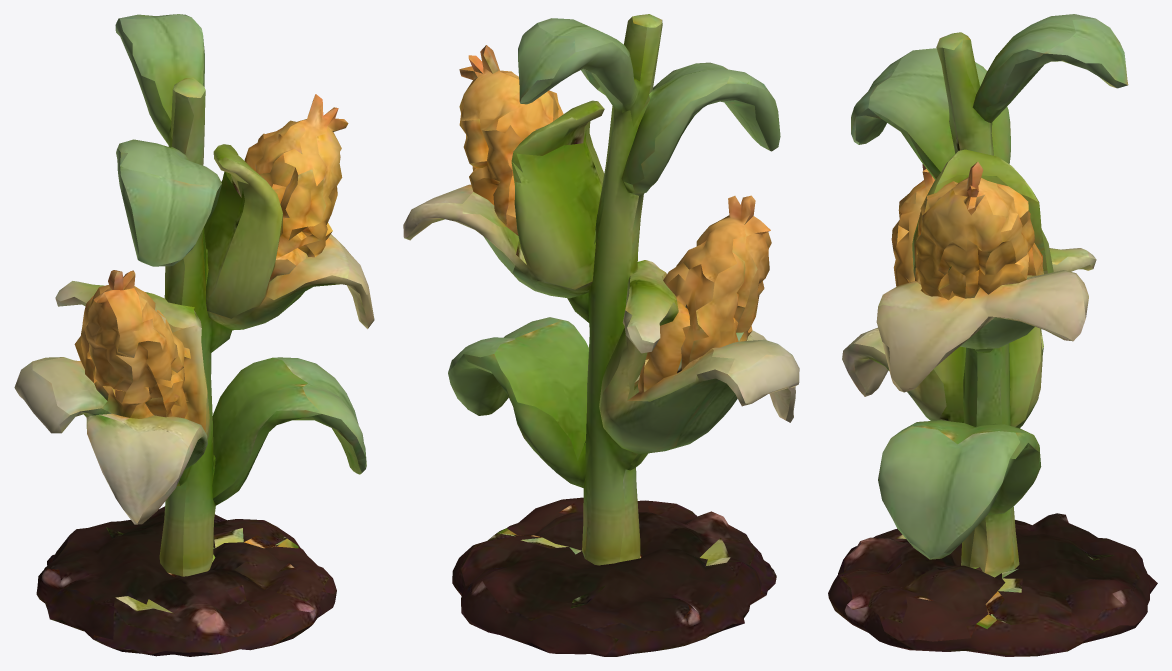
The model's file is crop_corn.glb.
The picture shows the model from 3 angles, left to right: view 1: azimuth 30°, elevation 25°; view 2: azimuth 150°, elevation 25°; view 3: azimuth 270°, elevation 25°; orthographic projection. The views are drawn at different scales.
Visible parts, largest first — view 1: crop_corn_s15; view 2: crop_corn_s15; view 3: crop_corn_s15.
Boxes of the visible parts, x1,y1,x2,y2 form: crop_corn_s15: (14,14,374,656); crop_corn_s15: (403,14,799,656); crop_corn_s15: (828,14,1157,656).
Bounding box in the file's own units: 0.6047 × 1 × 0.5208.
1 material, 1 textured.
